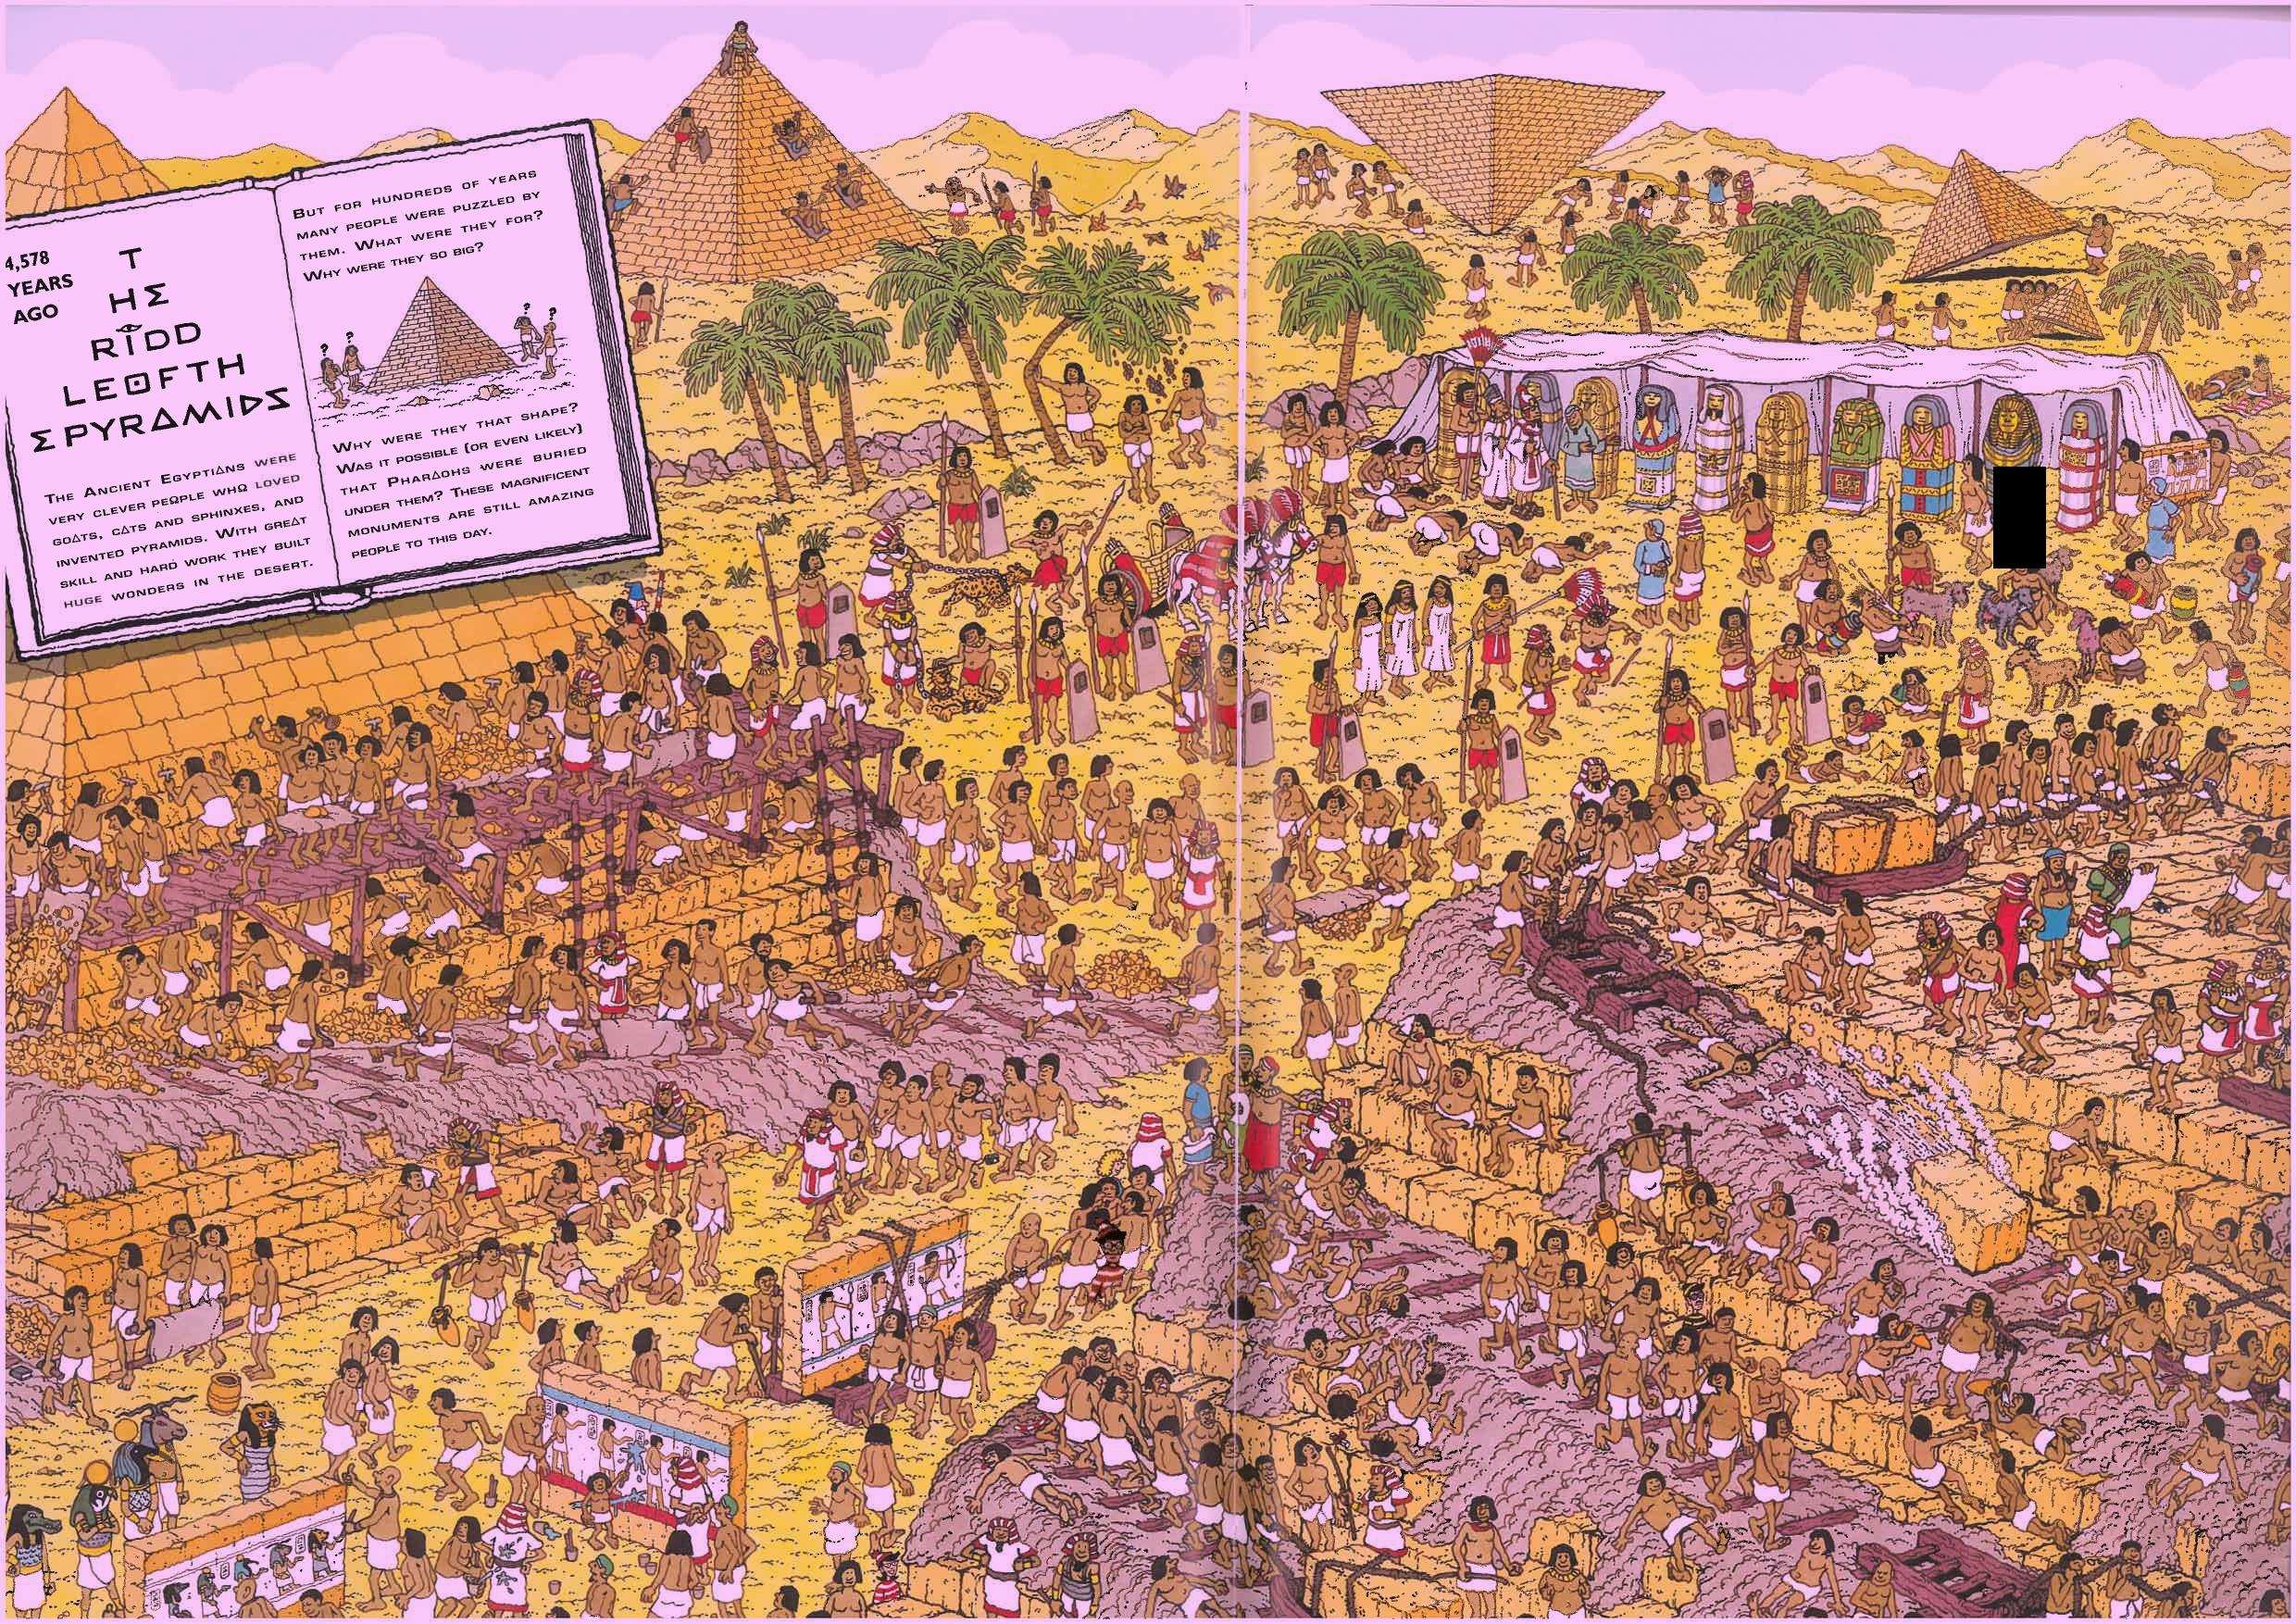waldos: (1080, 1213, 1133, 1315)
